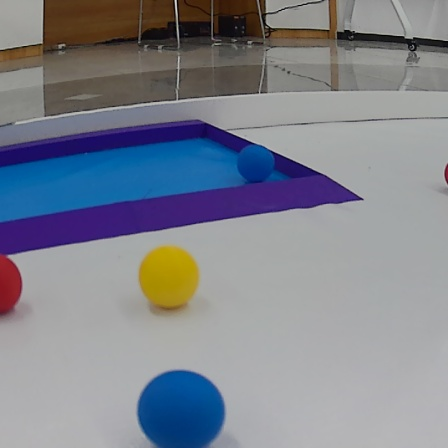blue: (135, 368, 230, 448), (234, 139, 278, 186)
blue_aim: (0, 116, 371, 265)
yellow: (137, 244, 203, 312)
